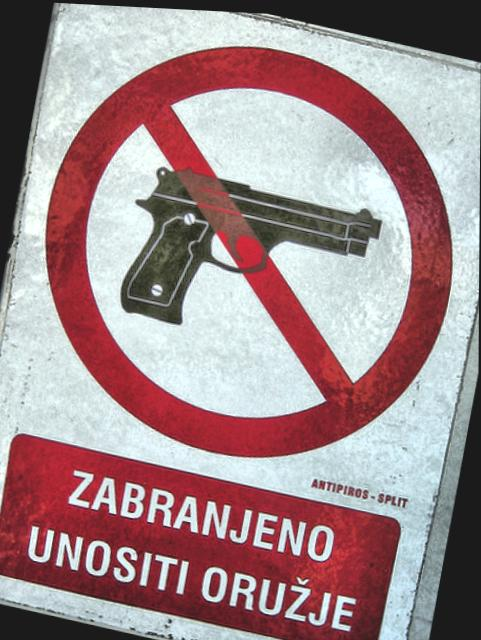pistol: (114, 153, 383, 358)
